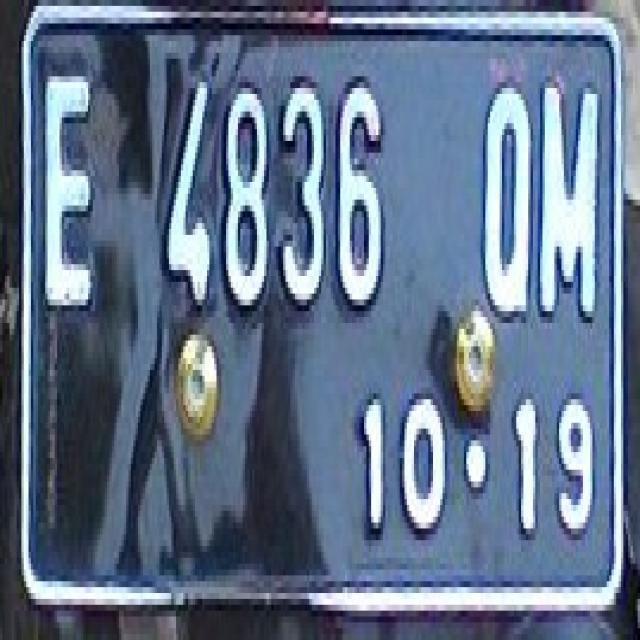plate: (21, 0, 621, 611)
